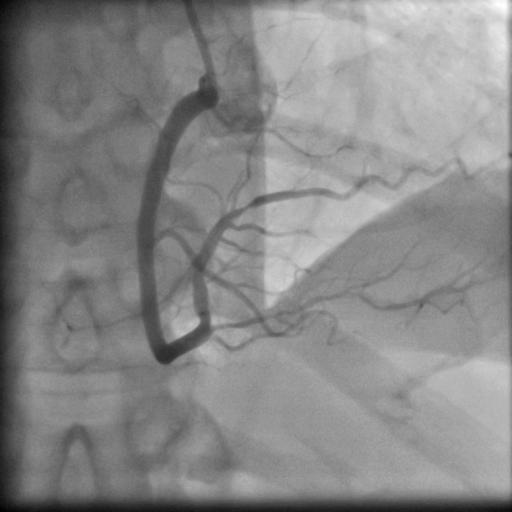Stenosis: (229, 199, 260, 216)
